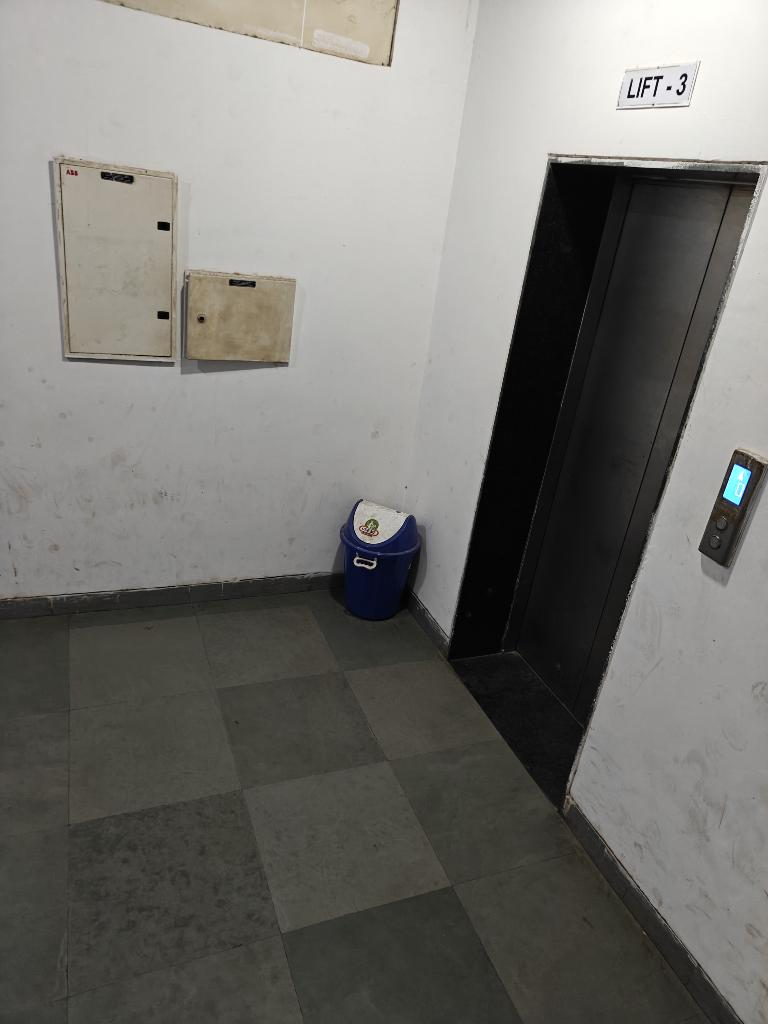dustbin: (323, 496, 428, 640)
